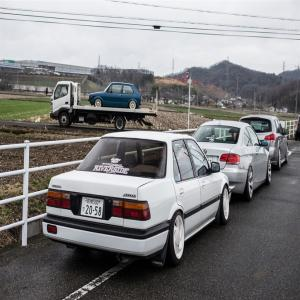Vehicle-registration-plate: (82, 202, 108, 233), (206, 155, 213, 168)
